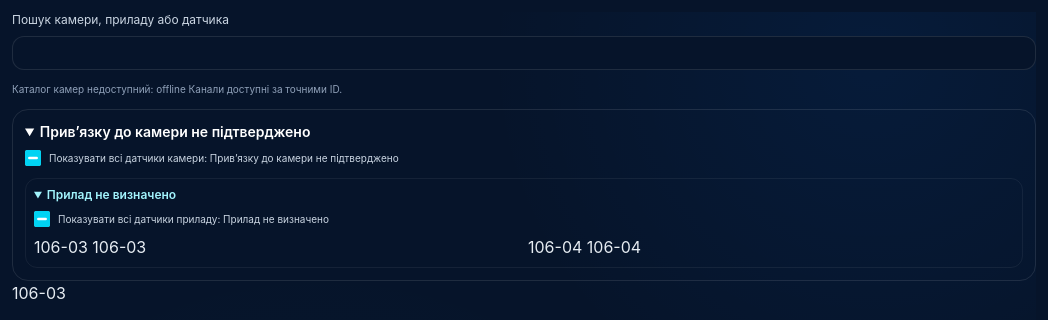
Test: Overview hierarchy controls › retains raw channels when metadata fails and explains the failure
This screenshot has width=1048, height=320.
Check: the text "Каталог камер недоступний: offline Канали доступні за точними ID." is shown, box [12,83,342,95]
Check: the text "106-03 106-03" is shown, box [34,237,146,257]
Click the checkbox labelled "Показувати всі датчики приладу: Прилад не визначено": (42,219) [34,211,50,227]
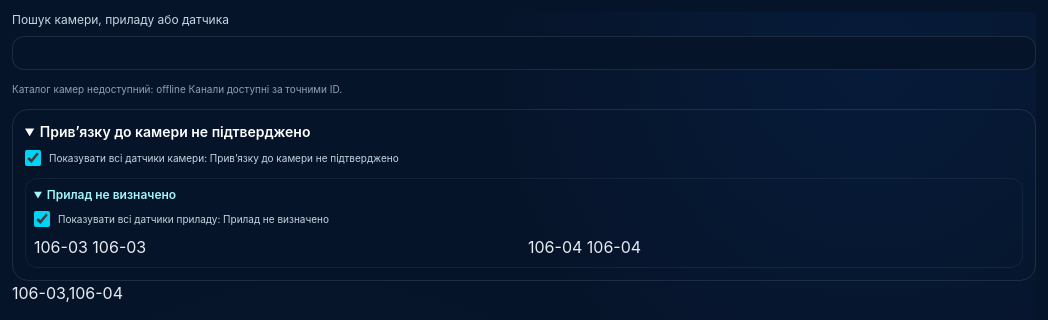
Check: the text named "selected" reads "106-03,106-04", box [12,283,123,303]
